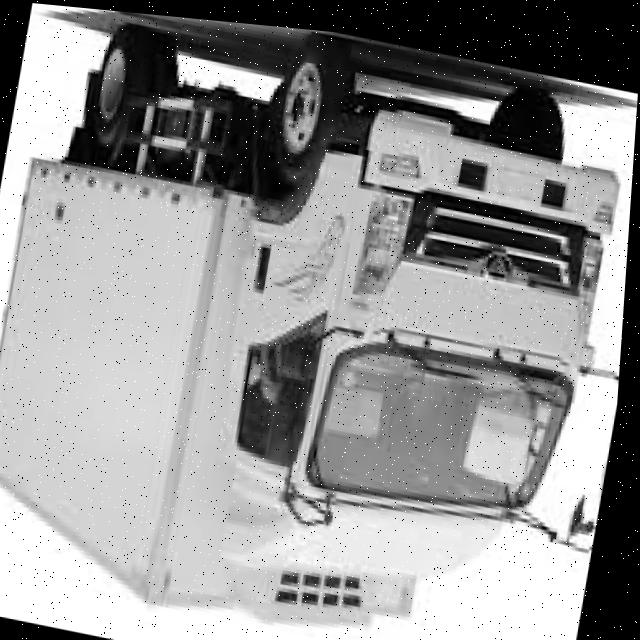truck: (163, 15, 640, 605)
